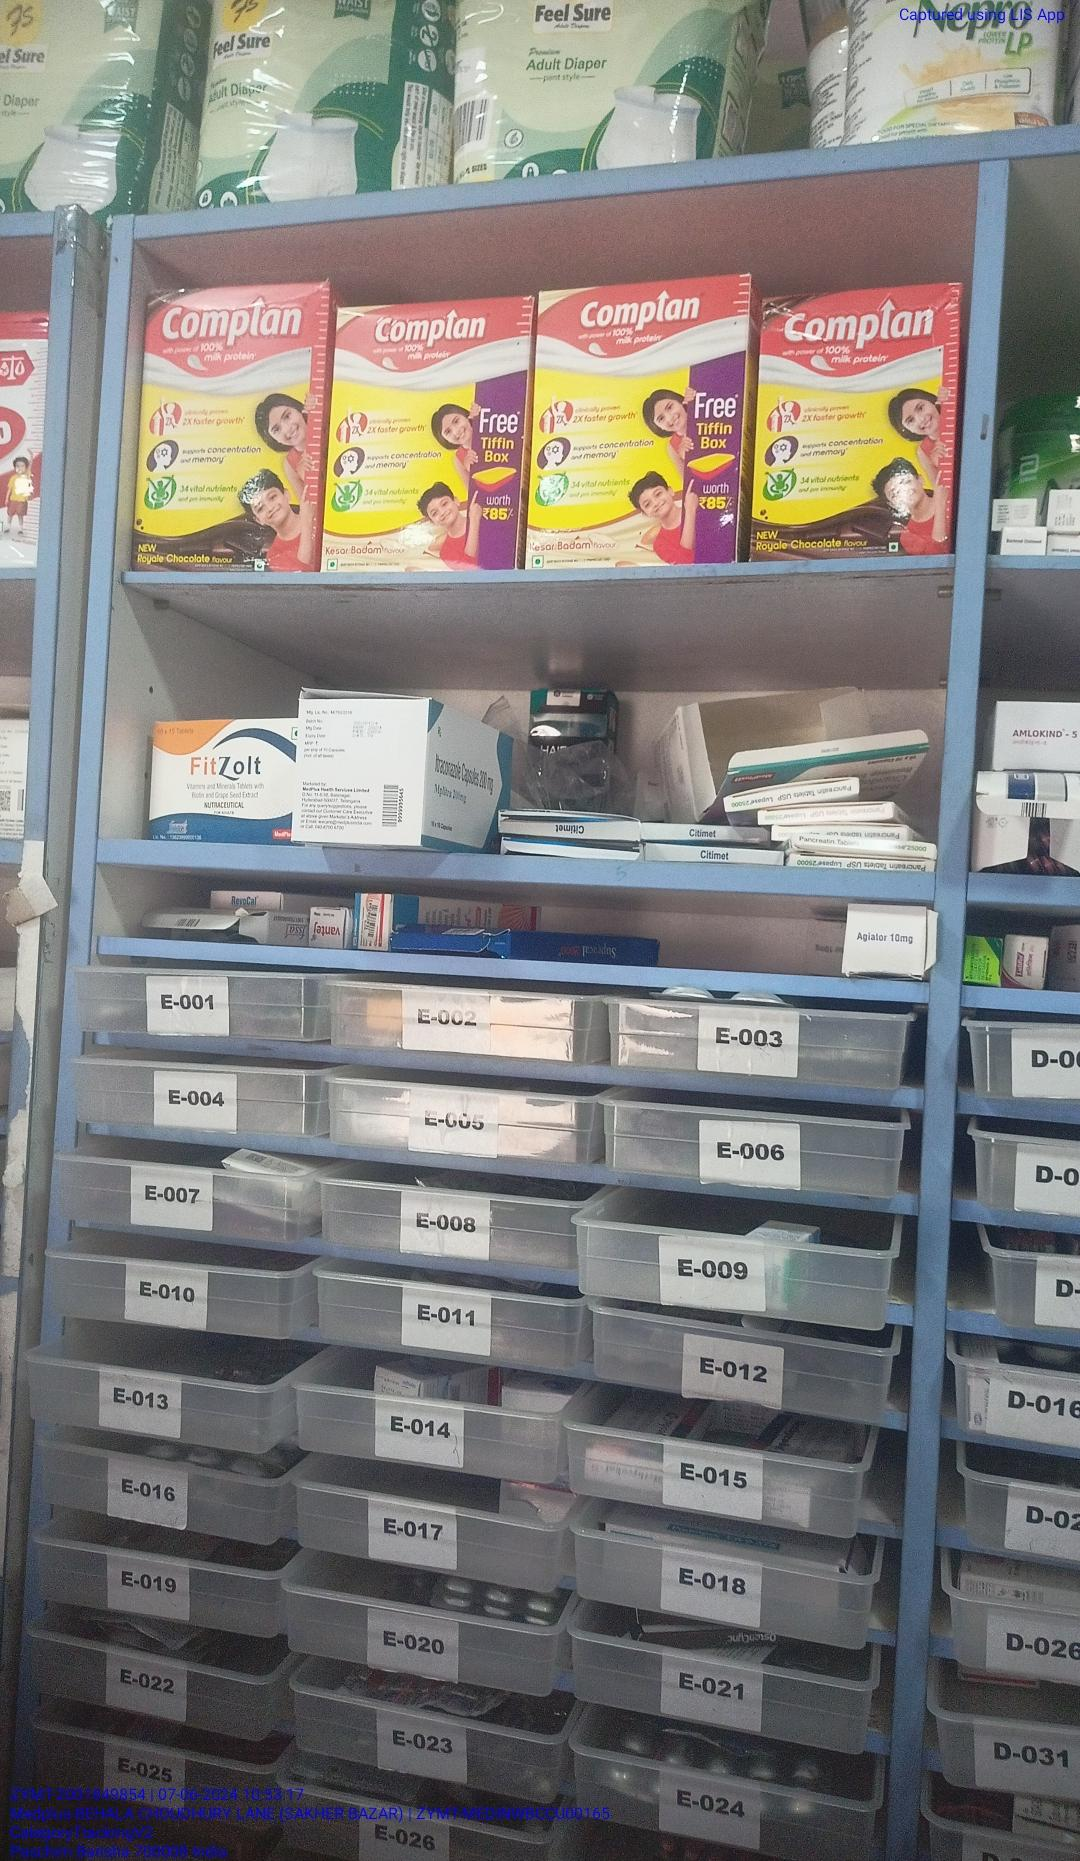COMPLAN_CHOCOLATE_200_GMS_PACK: (761, 293, 946, 565)
COMPLAN_KESAR_BADAM_500_GMS_PACK: (536, 284, 741, 562), (333, 305, 518, 577)
